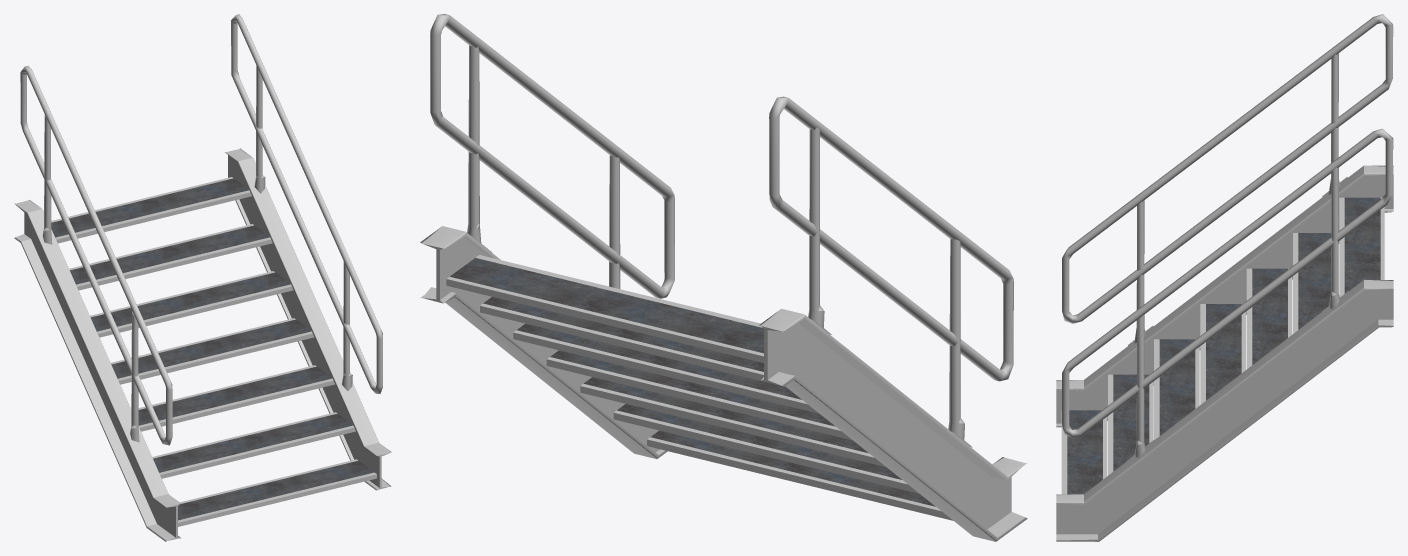
File: SM_StaircaseHalf_02.fbx
3 views of the same model, side by side, from view 1: azimuth 30°, elevation 25°; view 2: azimuth 150°, elevation 25°; view 3: azimuth 270°, elevation 25° (orthographic). The views are drawn at different scales.
Parts seen in each view (by area): view 1: SM_StaircaseHalf_02_LOD0; view 2: SM_StaircaseHalf_02_LOD0; view 3: SM_StaircaseHalf_02_LOD0.
Boxes of the visible parts, bbox=[...] form: SM_StaircaseHalf_02_LOD0: bbox=[14, 14, 391, 541]; SM_StaircaseHalf_02_LOD0: bbox=[420, 14, 1027, 541]; SM_StaircaseHalf_02_LOD0: bbox=[1056, 14, 1393, 541].
Size of the model in its own units: 199 by 231 by 309.
